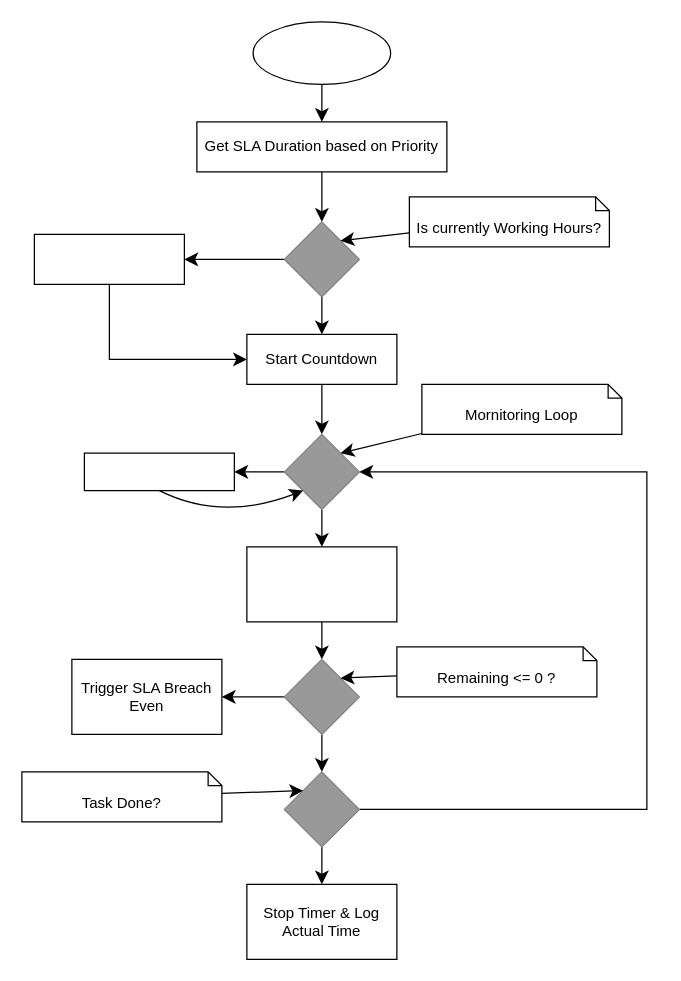
Image size: 681x981. Some labels were removed from this diagram. The shapes that lost their labels are listed below. From the top down, each one's box as (x1, y1, x2, y2) in pixels, then its label:
(252, 21, 391, 84): Task Created
(33, 233, 184, 284): Wait for next Shift
(83, 452, 234, 491): Pause Timer
(246, 546, 397, 622): Descrease Remaining Time
